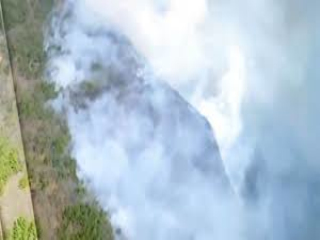smoke: (52, 1, 318, 235)
